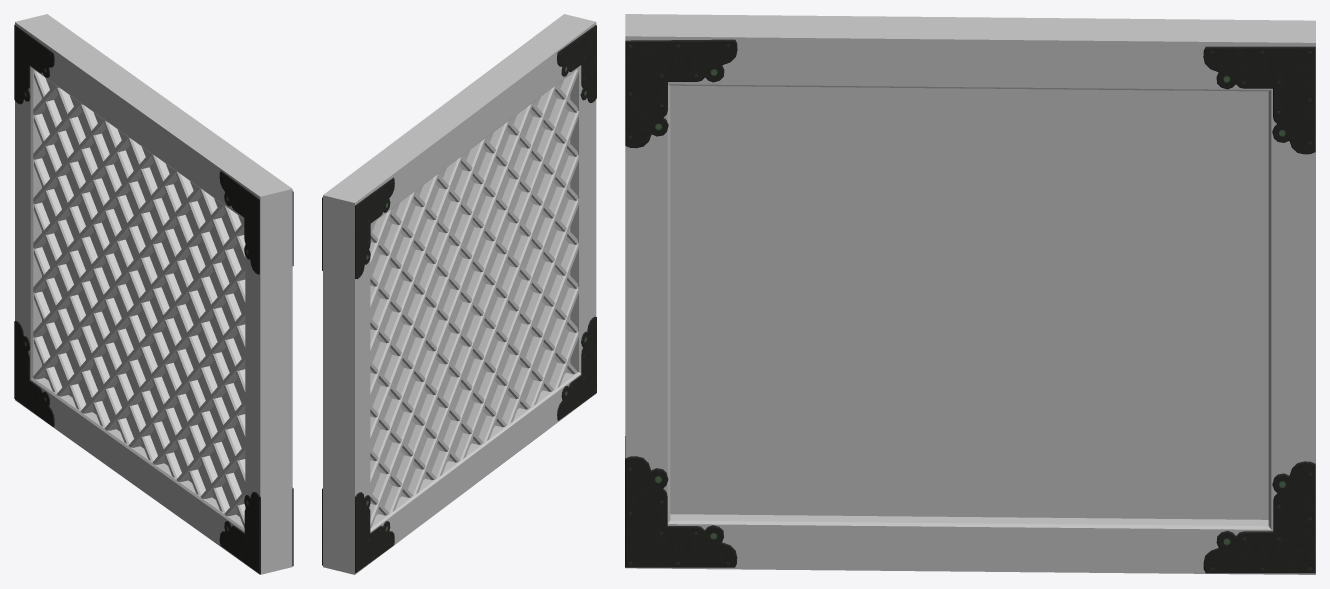
The model's file is SM_GJJ_2F_Window01B.fbx.
3 renders of one model, left to right at view 1: azimuth 30°, elevation 25°; view 2: azimuth 150°, elevation 25°; view 3: azimuth 270°, elevation 25°, orthographic. The views are drawn at different scales.
Visible parts, largest first — view 1: SM_GJJ_2F_Window01B; view 2: SM_GJJ_2F_Window01B; view 3: SM_GJJ_2F_Window01B.
Boxes of the visible parts, x1=… form: SM_GJJ_2F_Window01B: x1=14, y1=14, x2=293, y2=574; SM_GJJ_2F_Window01B: x1=322, y1=14, x2=596, y2=574; SM_GJJ_2F_Window01B: x1=625, y1=14, x2=1315, y2=574.
Size of the model in its own units: 9.3 by 114 by 97.9.
